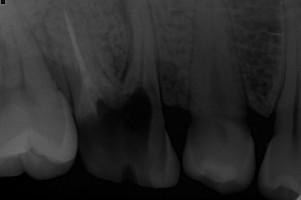Endo-Periodontal Lesion: (113, 52, 131, 80)
